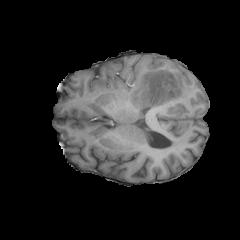glioma: (119, 60, 194, 109)
